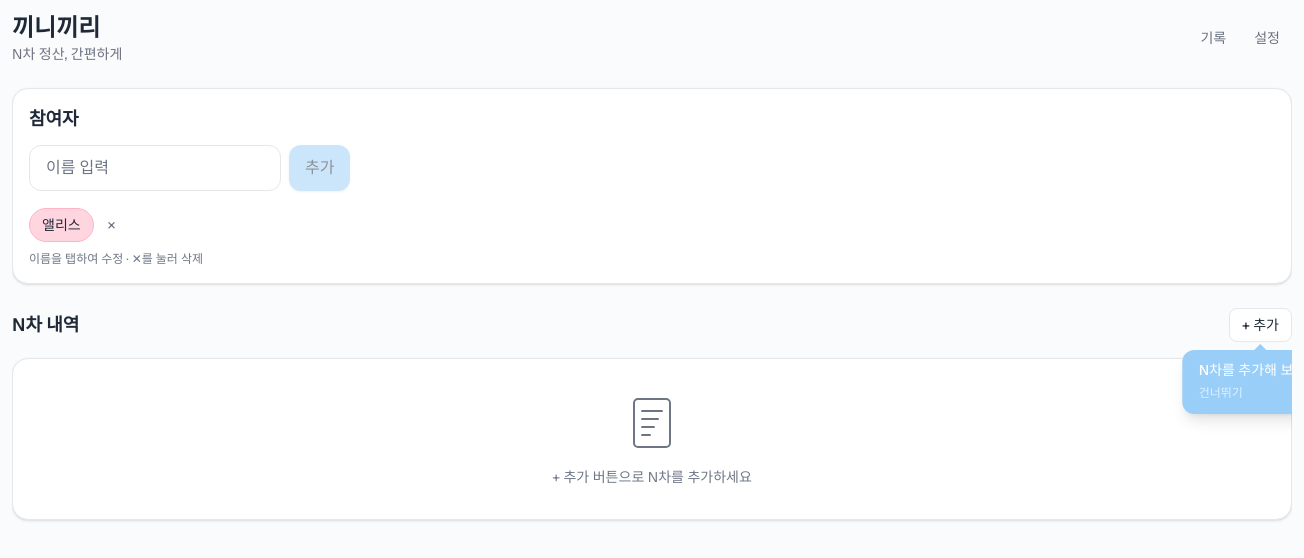
Test: MainPage - 참여자 관리 › 중복 이름 추가 시 에러 메시지
Type "앨리스" into the field named "참여자 이름 입력" at coordinates (155, 168), box [29,145,281,191]
Then press Enter
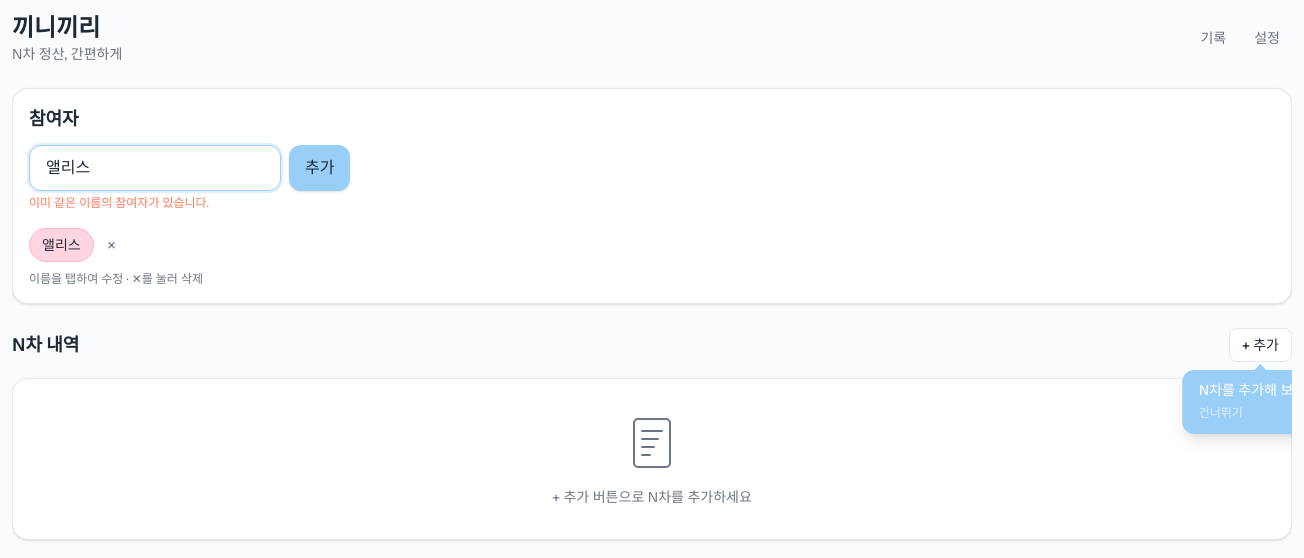
Now the text "이미 같은 이름의 참여자가 있습니다." is shown, box [29,195,209,211]
